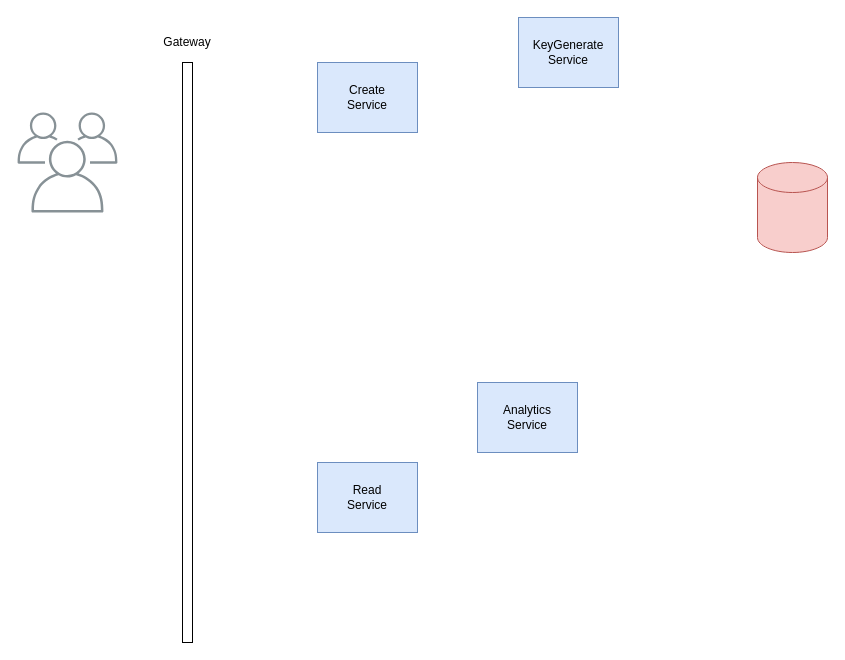
Some shapes in this 845 by 660 pixel diagram are drawn without their labels. Each missing label, with the centre of its shape:
DB: pixel 792 207
users: pixel 67 162
